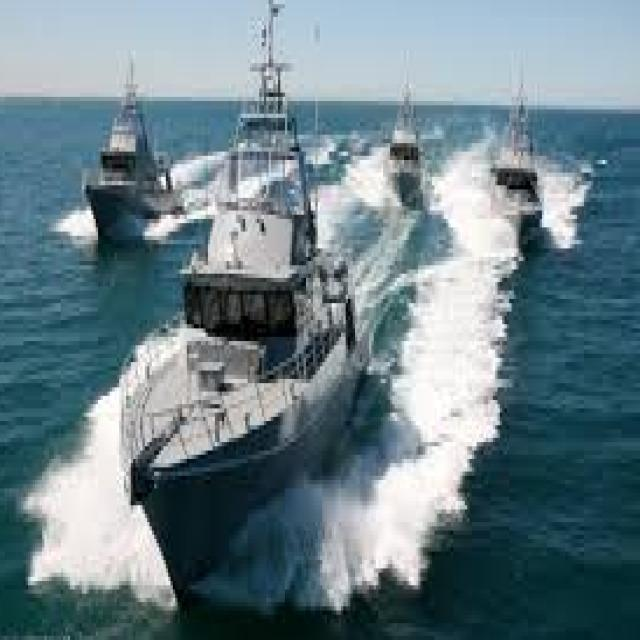houseboat: (122, 0, 369, 594), (84, 73, 184, 241), (491, 75, 548, 242), (385, 69, 428, 210)
